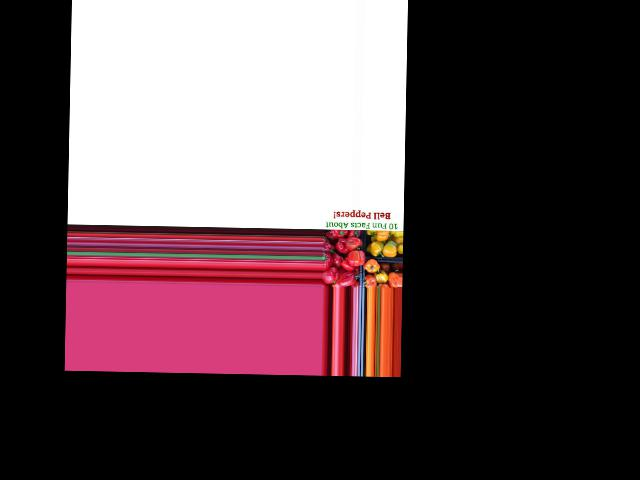bell_pepper: (330, 227, 352, 241)
